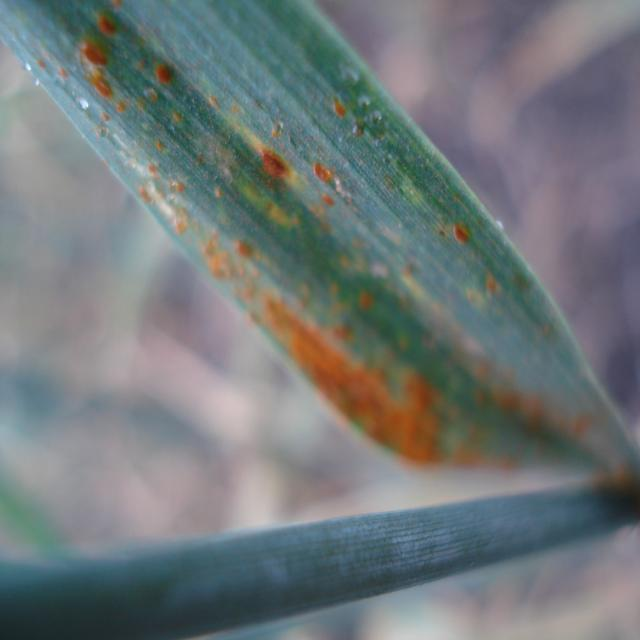Yellow_Rust: (0, 0, 639, 507)
